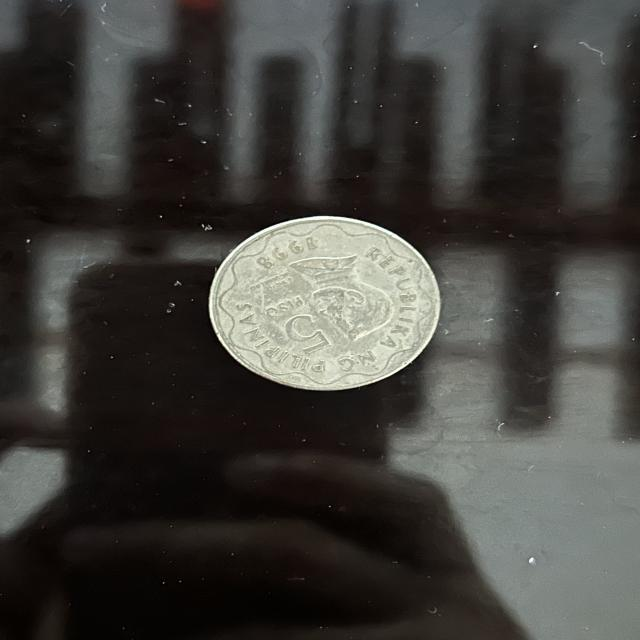5_Old_Front: (210, 218, 442, 392)
